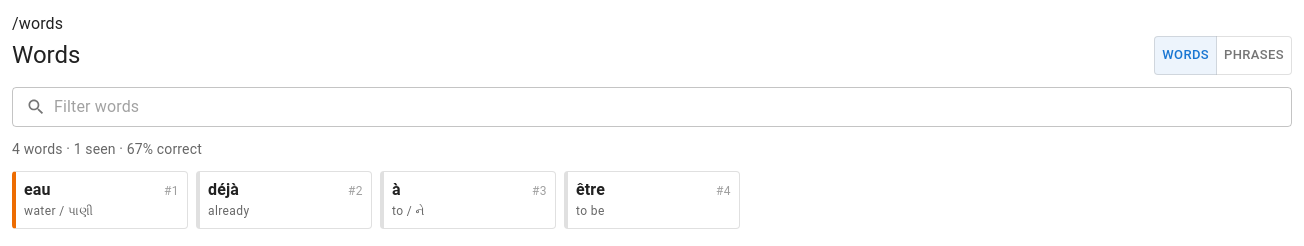
Test: /words list › matches any language and says when nothing matches
Expected: the text "/words" is shown, 12,14 -> 63,33
Step 1. Type "પાણી" into the field labelled "Filter words" → [673, 107], box 54,87 -> 1292,127
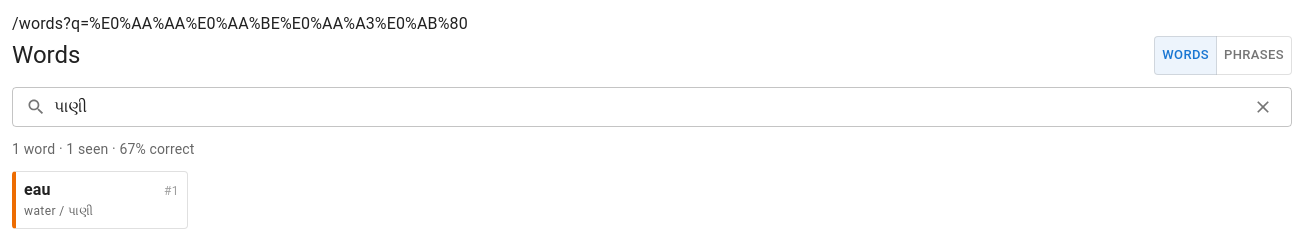
Expected: the number of links is 1, 12,171 -> 188,229
Expected: the text "eau" is shown, 24,180 -> 51,199
Step 2. Replace the text in the field named "Filter words" with "zzz" → [647, 107], box 54,87 -> 1240,127
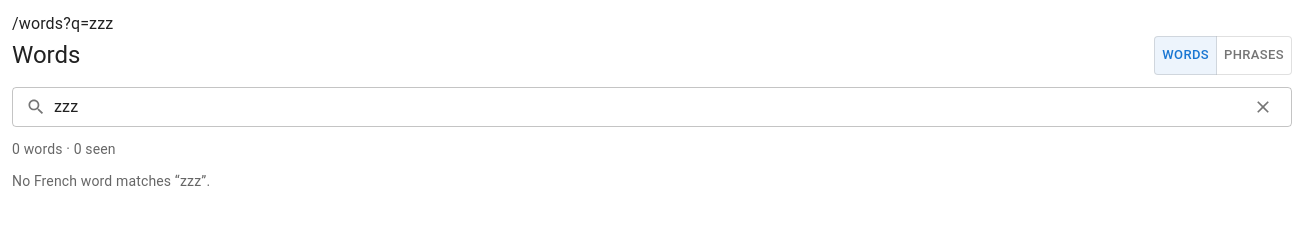
Expected: no links are shown
Expected: the text "No French word matches “zzz”." is shown, 12,173 -> 210,189
